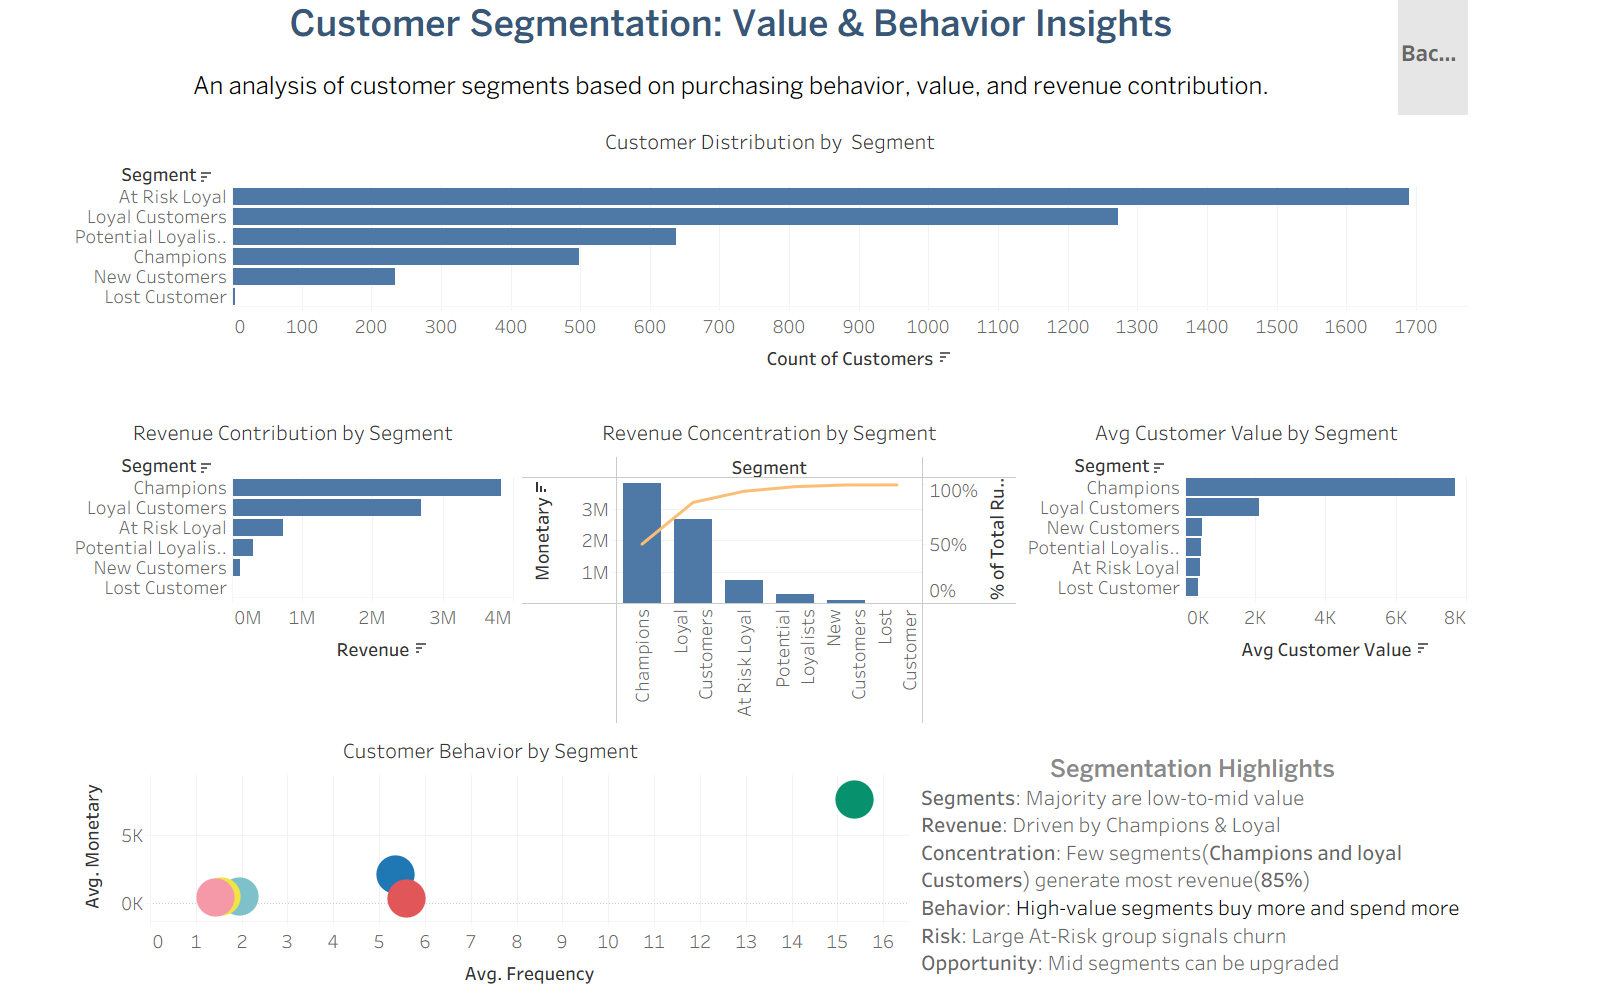

What the dashboard file says about the page in this screenshot:
{"tool":"tableau","page":{"name":"Dashboard 2: Customer Segmentation:","canvas":[1000,1000],"units":"permille","ordinal":1},"visuals":[{"type":"text","box":[5.6,8.9,933.8,127.8]},{"type":"dashboard-object","box":[939.4,8.9,54.9,127.8]},{"type":"worksheet","title":"Customer_by_Segment","mark":"Automatic","rows":["Segment"],"cols":["CustomerID (rfm_table.csv)"],"box":[5.6,136.7,988.7,281.1]},{"type":"worksheet","title":"Revenue_by_Segment","mark":"Automatic","rows":["Segment"],"cols":["Monetary"],"box":[5.6,417.8,316.9,291.1]},{"type":"worksheet","title":"Revenue_Concentration_by_Segment","mark":"Automatic","rows":["Monetary"],"cols":["Segment"],"box":[322.5,417.8,354.2,306.7]},{"type":"worksheet","title":"Avg_Customer_Value_by_Segment","mark":"Automatic","rows":["Segment"],"cols":["Monetary"],"box":[676.8,417.8,317.6,306.7]},{"type":"worksheet","title":"Customer_Behavior_by_Segment","mark":"Circle","rows":["Monetary"],"cols":["Frequency"],"box":[5.6,724.4,595.1,266.7]},{"type":"text","box":[600.7,724.4,393.7,266.7]}]}

Visuals, with their boxes on the dashboard's canvas, which has no fixed pixel size, in thousandths of its width and height (x1, y1, x2, y2). These are canvas units, not pixel positions in the 1618x1002 screenshot, which may show the page scaled, cropped or inside an application window:
text: 6,9,939,137
dashboard-object: 939,9,994,137
"Customer_by_Segment" worksheet: 6,137,994,418
"Revenue_by_Segment" worksheet: 6,418,322,709
"Revenue_Concentration_by_Segment" worksheet: 322,418,677,724
"Avg_Customer_Value_by_Segment" worksheet: 677,418,994,724
"Customer_Behavior_by_Segment" worksheet (Circle marks): 6,724,601,991
text: 601,724,994,991
